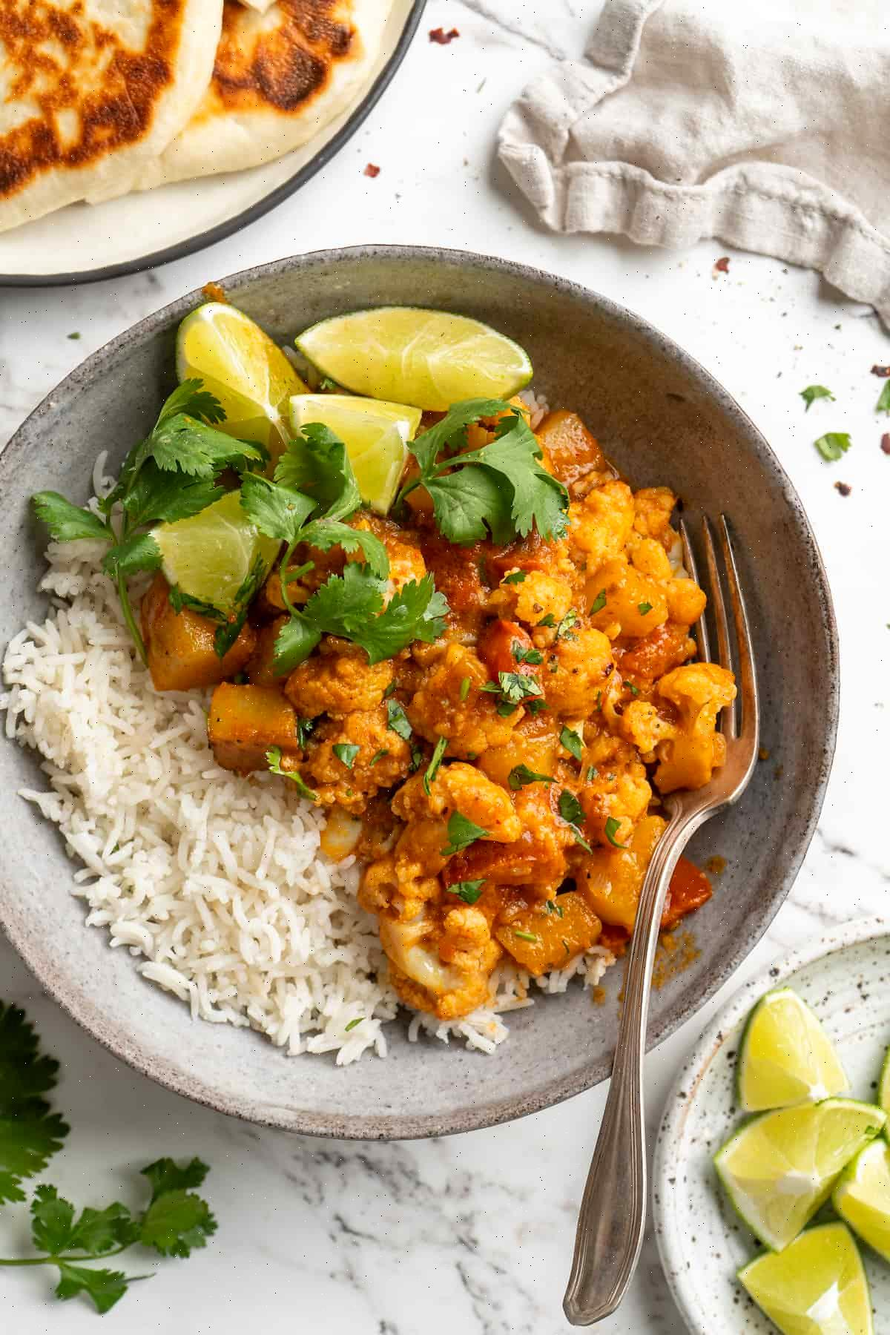aloo gobhi: (253, 420, 730, 979)
rice: (5, 609, 364, 1054)
